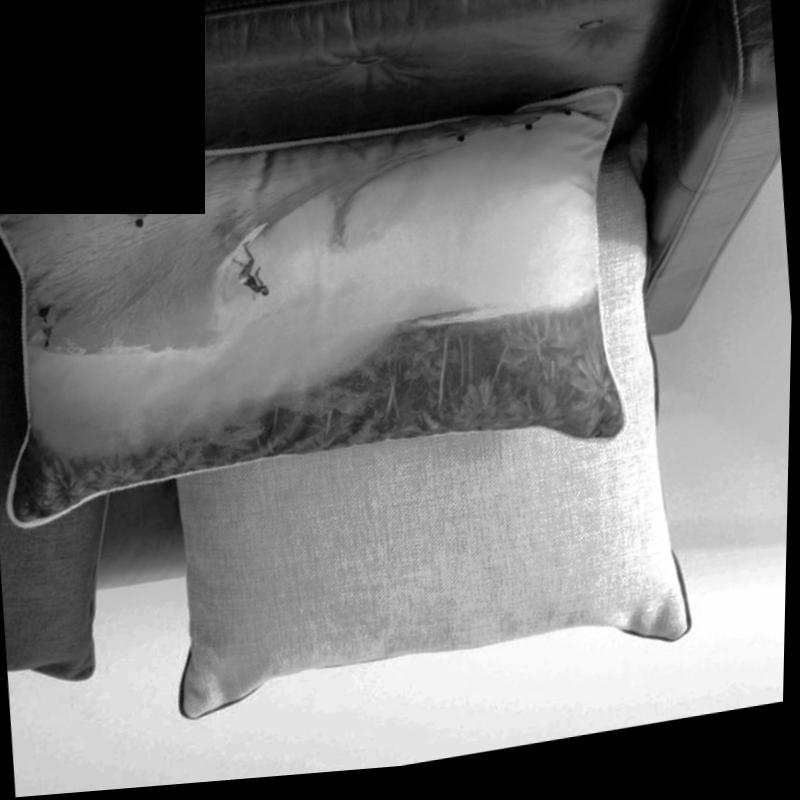pillow: (138, 135, 697, 733), (0, 71, 655, 543), (0, 243, 136, 689)
